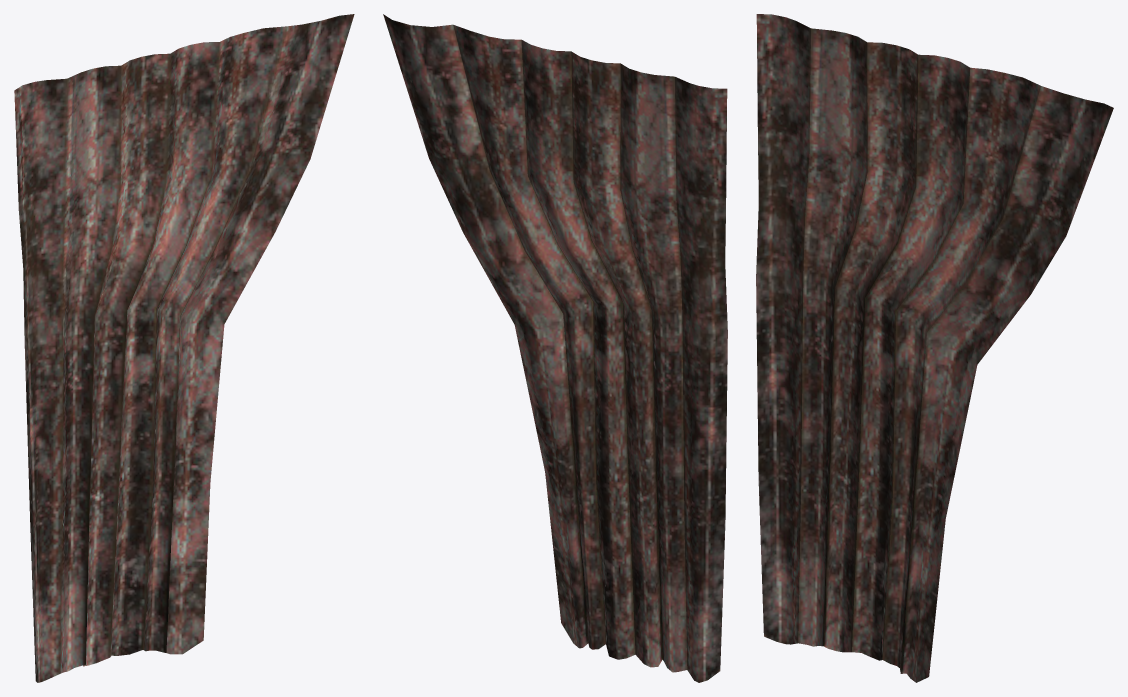
File: Curtain_R.FBX
The picture shows the model from 3 angles, left to right: view 1: azimuth 30°, elevation 25°; view 2: azimuth 150°, elevation 25°; view 3: azimuth 330°, elevation 25°; orthographic projection. The views are drawn at different scales.
Parts seen in each view (by area): view 1: Curtain_R; view 2: Curtain_R; view 3: Curtain_R.
Boxes of the visible parts, x1,y1,x2,y2 form: Curtain_R: (14,14,354,682); Curtain_R: (383,14,727,682); Curtain_R: (756,14,1113,682).
Bounding box in the file's own units: 136 × 228 × 12.52.
